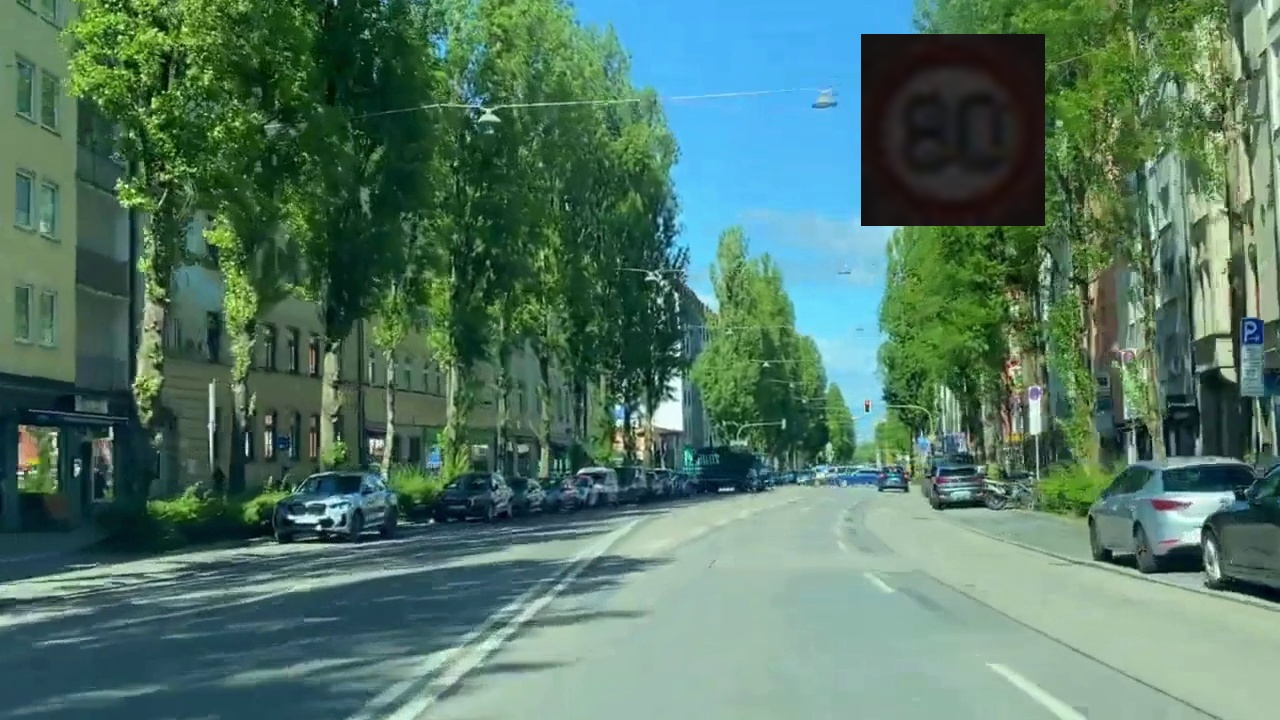Speed 80: (861, 34, 1045, 226)
